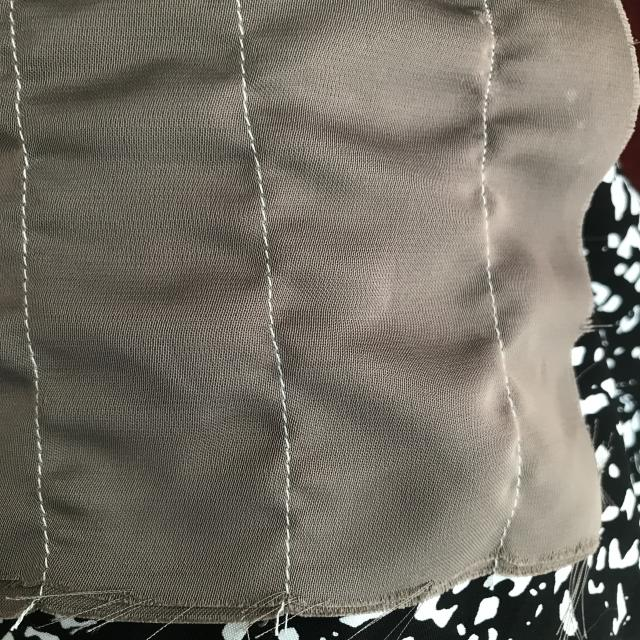good: (234, 136, 289, 269), (268, 391, 304, 546), (25, 418, 63, 546), (2, 39, 34, 148), (227, 15, 260, 113), (15, 170, 40, 271)
